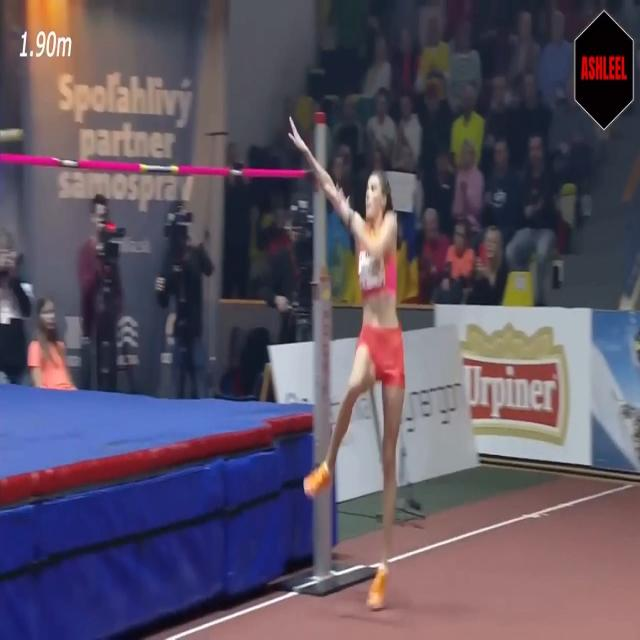jump: (288, 112, 406, 611)
